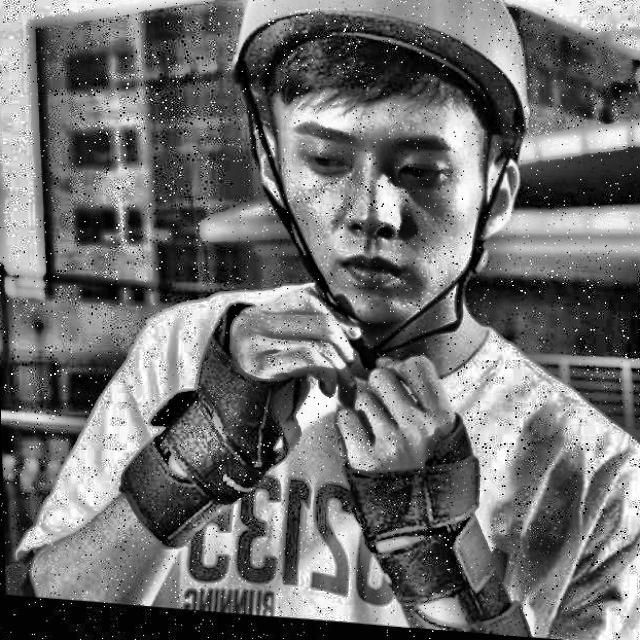Helmet: (227, 0, 542, 361)
